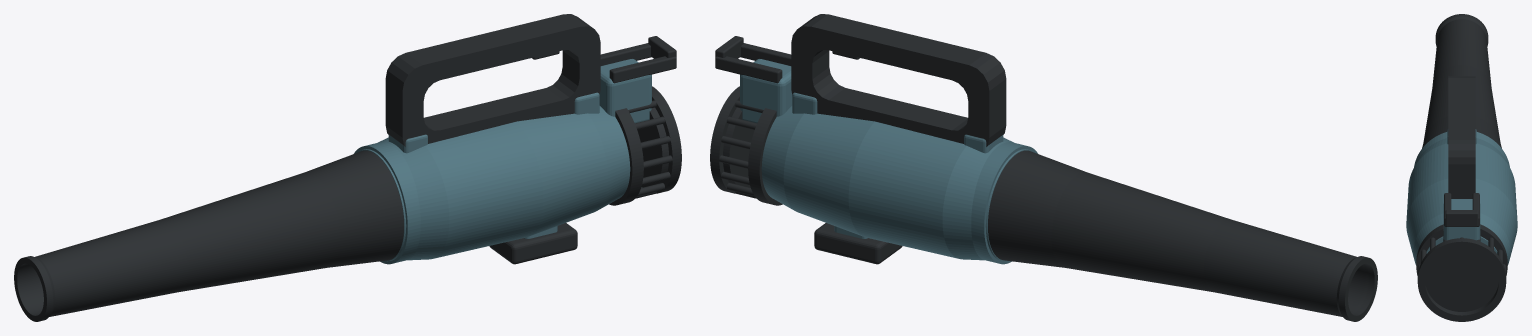
Rendered from full.glb.
3 views of the same model, side by side, from view 1: azimuth 30°, elevation 25°; view 2: azimuth 150°, elevation 25°; view 3: azimuth 270°, elevation 25° (orthographic). The views are drawn at different scales.
Visible parts, largest first — view 1: Long tapered hollow nozzle, Coaxial bulbous fan housing, Long open upper arched handle, Nozzle seating collar, Raised empty battery mounting spine, Small lower resting foot, Rear intake forward collar, Rear intake outer collar, Generic recessed rear closure, Empty battery slide rail -0.02, Empty battery slide rail 0.02, Rear handle support; view 2: Long tapered hollow nozzle, Coaxial bulbous fan housing, Long open upper arched handle, Nozzle seating collar, Raised empty battery mounting spine, Small lower resting foot, Rear intake forward collar, Rear intake outer collar, Generic recessed rear closure, Empty battery slide rail 0.02, Empty battery slide rail -0.02, Rear handle support; view 3: Coaxial bulbous fan housing, Long tapered hollow nozzle, Generic recessed rear closure, Long open upper arched handle, Rear intake outer collar, Raised empty battery mounting spine, Rear intake forward collar, Battery rail end stop, Nozzle seating collar, Empty battery slide rail -0.02, Empty battery slide rail 0.02.
Part boxes in pixels (x1,y1,x2,y2): Long tapered hollow nozzle: (14, 150, 403, 321); Coaxial bulbous fan housing: (358, 106, 630, 261); Long open upper arched handle: (385, 14, 600, 146); Nozzle seating collar: (354, 142, 420, 264); Raised empty battery mounting spine: (599, 59, 651, 123); Small lower resting foot: (489, 223, 577, 264); Rear intake forward collar: (609, 108, 643, 205); Rear intake outer collar: (652, 86, 681, 193); Generic recessed rear closure: (637, 107, 668, 187); Empty battery slide rail -0.02: (609, 56, 676, 83); Empty battery slide rail 0.02: (600, 43, 651, 65); Rear handle support: (574, 92, 599, 114); Long tapered hollow nozzle: (988, 150, 1377, 321); Coaxial bulbous fan housing: (761, 106, 1033, 261); Long open upper arched handle: (791, 14, 1006, 146); Nozzle seating collar: (971, 142, 1037, 264); Raised empty battery mounting spine: (740, 59, 792, 123); Small lower resting foot: (814, 223, 902, 264); Rear intake forward collar: (748, 108, 782, 205); Rear intake outer collar: (710, 86, 739, 193); Generic recessed rear closure: (723, 107, 754, 187); Empty battery slide rail 0.02: (715, 56, 782, 83); Empty battery slide rail -0.02: (740, 43, 791, 65); Rear handle support: (792, 92, 817, 114); Coaxial bulbous fan housing: (1406, 138, 1517, 265); Long tapered hollow nozzle: (1422, 14, 1501, 148); Generic recessed rear closure: (1425, 248, 1498, 311); Long open upper arched handle: (1448, 76, 1475, 198); Rear intake outer collar: (1417, 238, 1506, 321); Raised empty battery mounting spine: (1443, 199, 1480, 240); Rear intake forward collar: (1416, 224, 1507, 275); Battery rail end stop: (1445, 210, 1478, 226); Nozzle seating collar: (1414, 132, 1509, 167); Empty battery slide rail -0.02: (1444, 193, 1451, 226); Empty battery slide rail 0.02: (1472, 193, 1479, 226).
Size of the model in its own units: 0.8255 by 0.2715 by 0.156.
